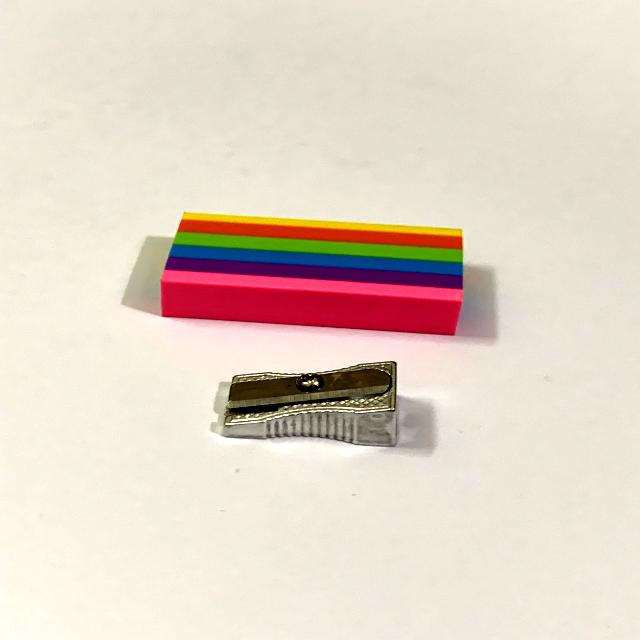Eraser: (132, 191, 502, 348)
Sharpner: (186, 343, 438, 452)
